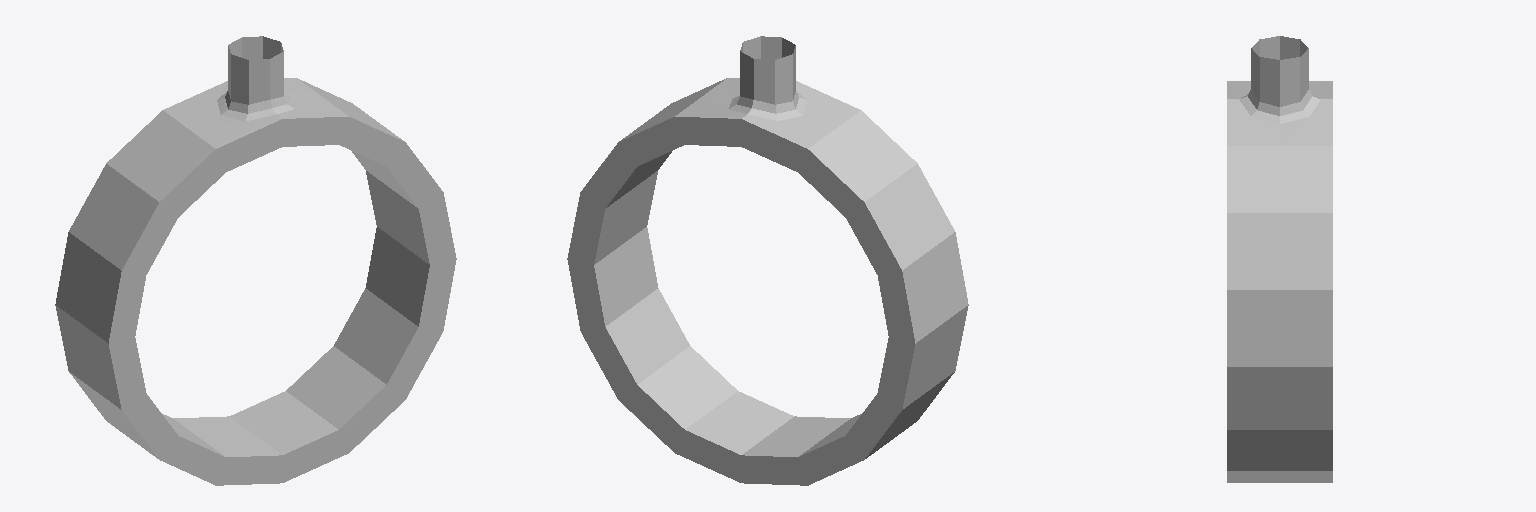
The model's file is pipe_to_cylinder_a.obj.
3 views of the same model, side by side, from view 1: azimuth 30°, elevation 25°; view 2: azimuth 150°, elevation 25°; view 3: azimuth 270°, elevation 25° (orthographic).
Visible parts, largest first — view 1: pipe_to_cylinder_a; view 2: pipe_to_cylinder_a; view 3: pipe_to_cylinder_a.
Part boxes in pixels (left/top/right/bottom): pipe_to_cylinder_a: left=55, top=36, right=456, bottom=485; pipe_to_cylinder_a: left=567, top=36, right=968, bottom=485; pipe_to_cylinder_a: left=1227, top=36, right=1332, bottom=482.
Bounding box in the file's own units: 2.6 × 2.97 × 0.688.